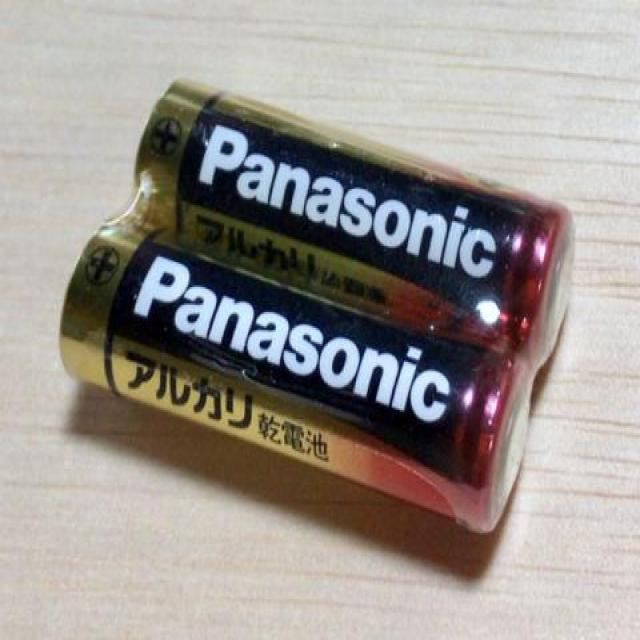hazardous waste: (46, 208, 538, 549), (128, 72, 582, 380)
